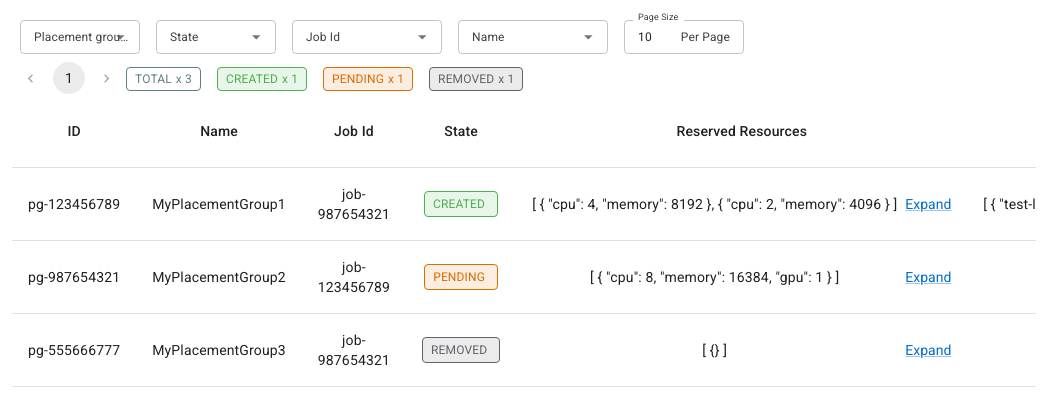
PlacementGroupTable › renders placement groups filtered by state
# Filter by state
Type "CREATED" into the dropdown labelled "State". click: (200,37)
box: top-left (162, 26), bottom-right (237, 48)
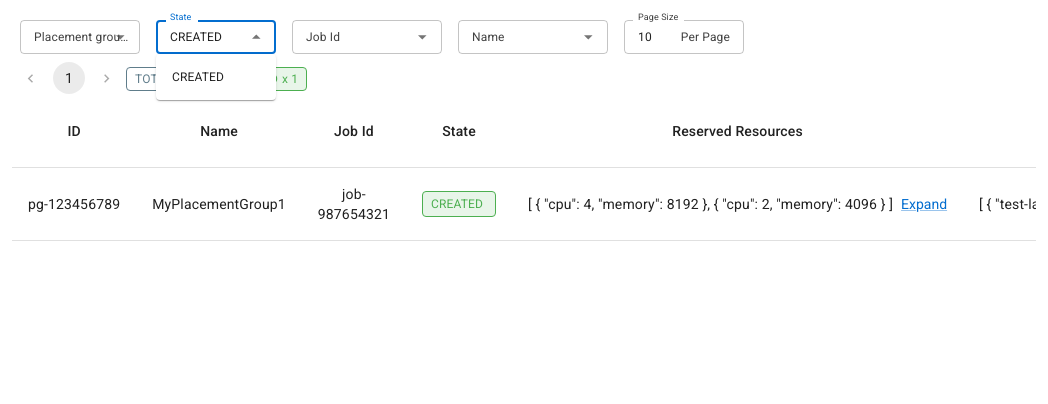
Expected: the text "pg-123456789" is shown, top-left (28, 194), bottom-right (120, 214)
Now the text "pg-987654321" is gone
Now the text "pg-555666777" is gone
